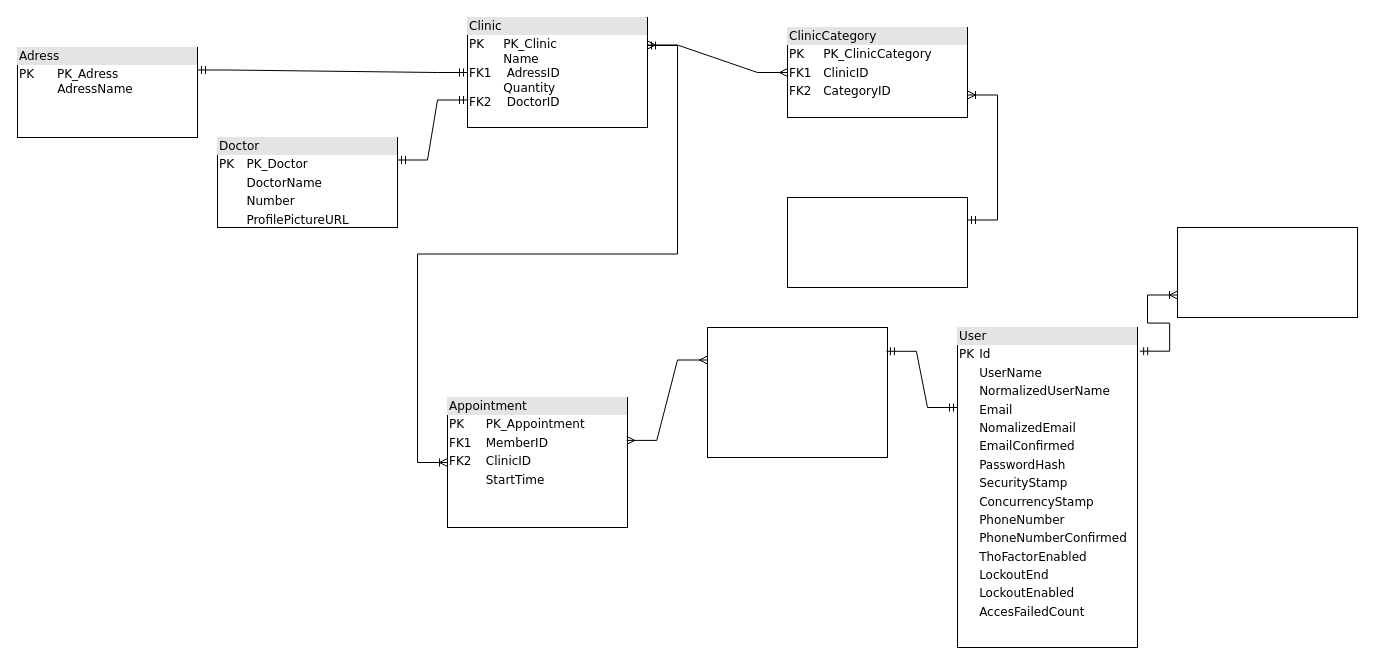
Image size: 1375x665. Some labels were removed from this diagram. Each missing label, with the centre of its shape:
"Category PK PK_Category CategoryName" goes at [877,242].
"Member PK PK_Member FirstName LastName Adress Email Phone" goes at [797,392].
"UserToken PK LoginProvider PK Name FK UserId Value" goes at [1267,272].
